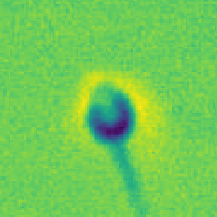normal: (105, 147, 153, 216)
